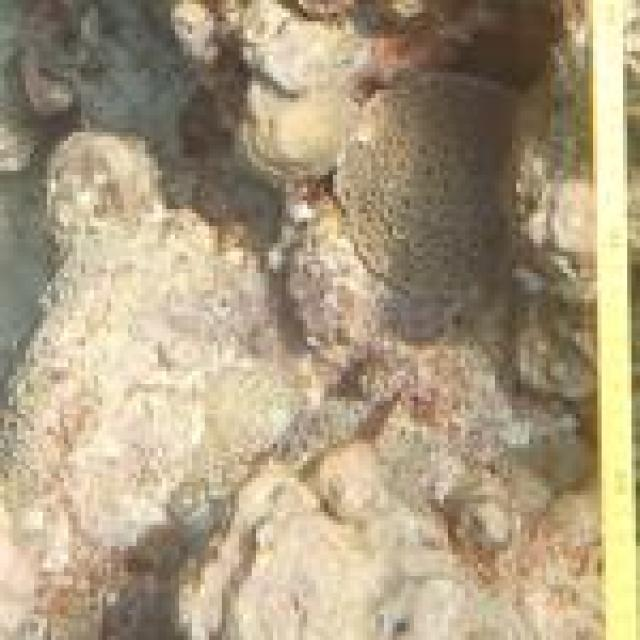Bleached Coral: (323, 0, 603, 320)
